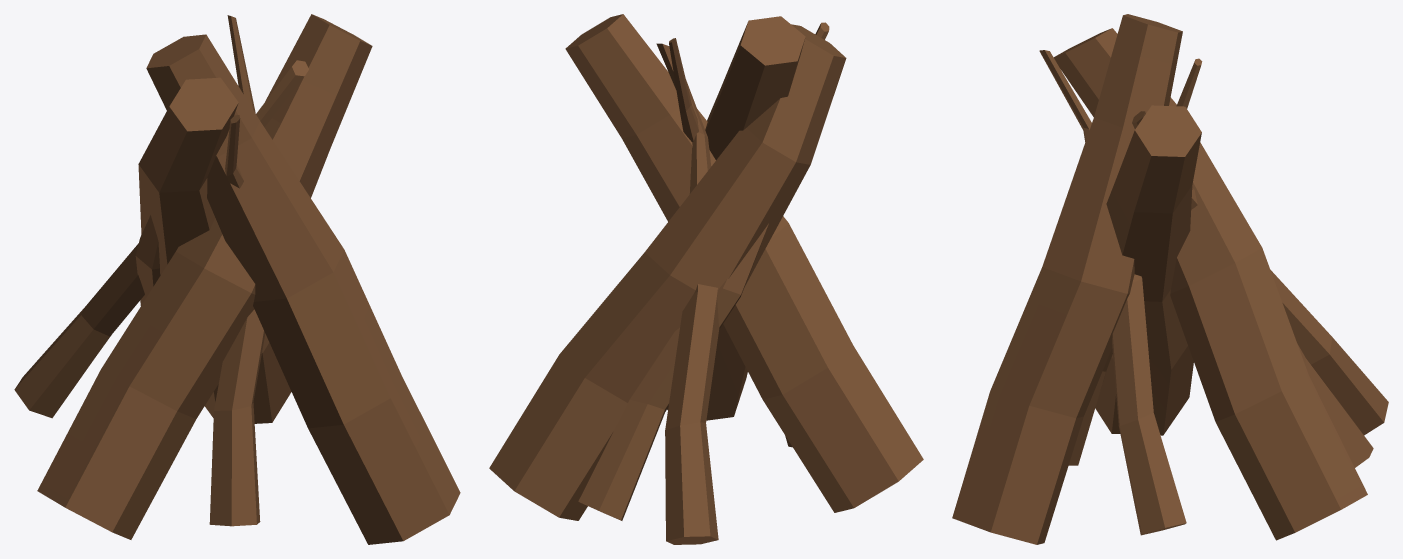
Rendered from Firewood.fbx.
3 views of the same model, side by side, from view 1: azimuth 30°, elevation 25°; view 2: azimuth 150°, elevation 25°; view 3: azimuth 270°, elevation 25° (orthographic). The views are drawn at different scales.
Visible parts, largest first — view 1: Firepit_Wood; view 2: Firepit_Wood; view 3: Firepit_Wood.
Boxes of the visible parts, box(x1,y1,x2,y2) form: Firepit_Wood: box(14, 14, 460, 544); Firepit_Wood: box(489, 14, 923, 544); Firepit_Wood: box(952, 14, 1388, 544).
Size of the model in its own units: 1.48 by 1.92 by 1.64.
